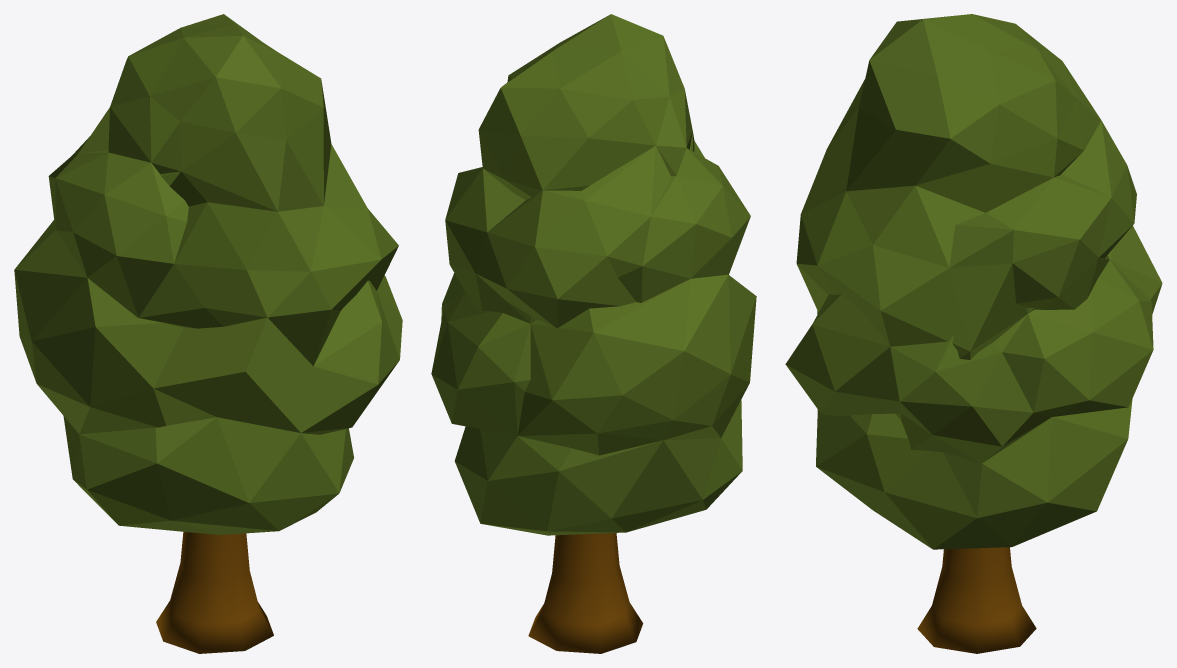
The model's file is Tree_3.fbx.
3 views of the same model, side by side, from view 1: azimuth 30°, elevation 25°; view 2: azimuth 150°, elevation 25°; view 3: azimuth 270°, elevation 25° (orthographic). The views are drawn at different scales.
Visible parts, largest first — view 1: Tree_3; view 2: Tree_3; view 3: Tree_3.
Boxes of the visible parts, x1,y1,x2,y2 form: Tree_3: (14,14,402,653); Tree_3: (431,14,756,653); Tree_3: (785,14,1162,653).
Size of the model in its own units: 177 by 329 by 184.
